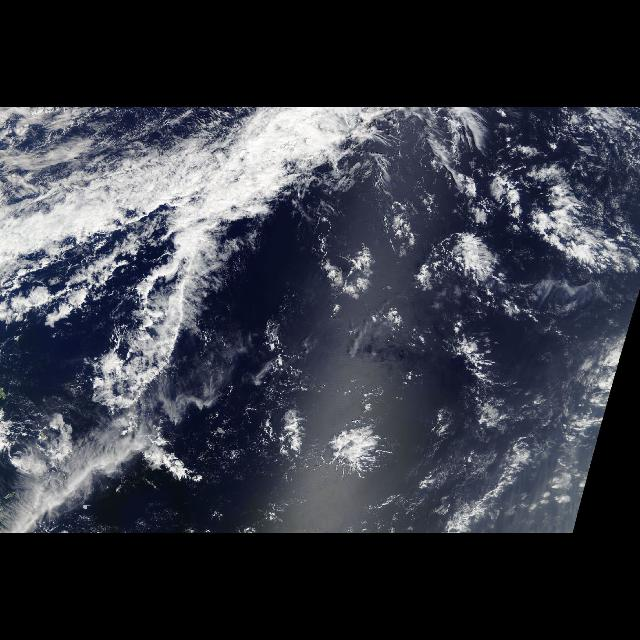Fish: (40, 226, 288, 476)
Sugar: (498, 110, 636, 300)
